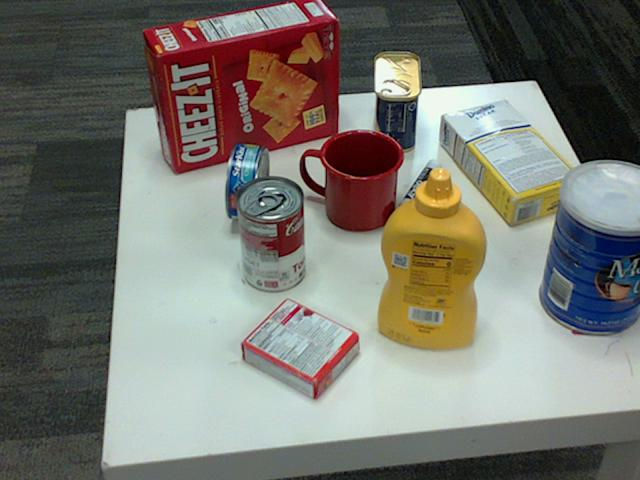cracker_box: (143, 0, 337, 170)
gelatin_box: (238, 298, 356, 401)
large_marker: (389, 162, 441, 227)
master_chef_can: (540, 160, 639, 335)
mug: (300, 127, 404, 230)
mustard_bottle: (376, 168, 487, 348)
potted_meat_can: (371, 53, 420, 152)
sugar_box: (440, 100, 585, 225)
tomato_soup_can: (236, 176, 305, 292)
tuna_fish_can: (224, 142, 269, 220)
